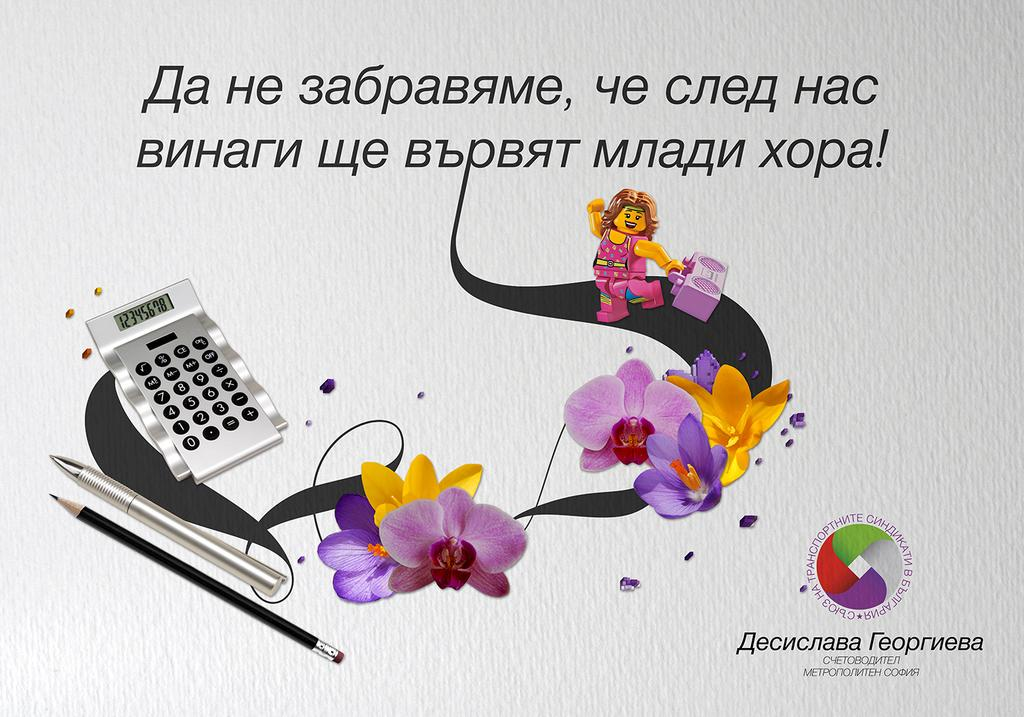pen: (51, 451, 289, 596)
